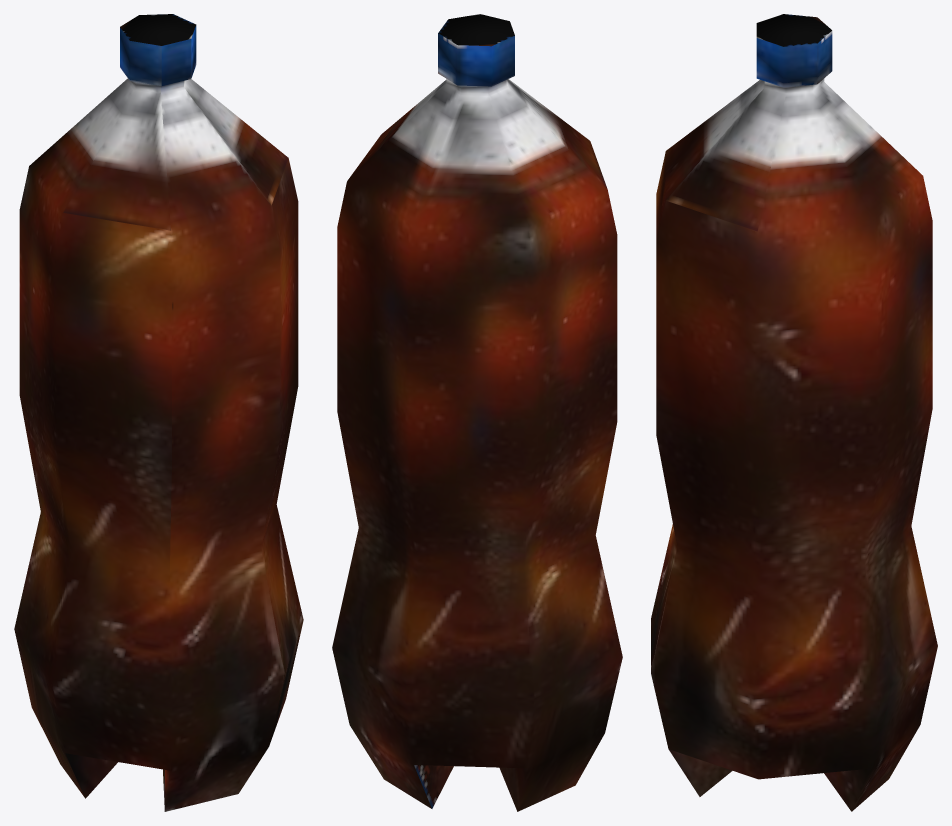
The model's file is BottleType2.glb.
3 views of the same model, side by side, from view 1: azimuth 30°, elevation 25°; view 2: azimuth 150°, elevation 25°; view 3: azimuth 270°, elevation 25° (orthographic).
Parts seen in each view (by area): view 1: Refreshment_01; view 2: Refreshment_01; view 3: Refreshment_01.
Boxes of the visible parts, x1,y1,x2,y2 form: Refreshment_01: (14,14,303,811); Refreshment_01: (332,14,622,811); Refreshment_01: (651,14,937,811).
Size of the model in its own units: 0.2451 by 0.6891 by 0.239.
Materials: 1 (1 with a texture image).
